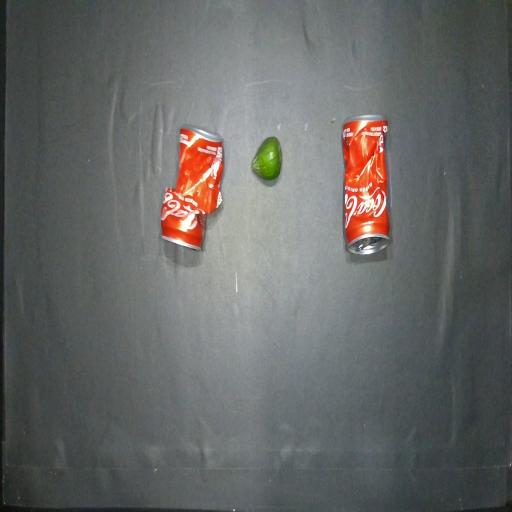lata_defectuoso: (161, 126, 223, 249), (343, 115, 389, 254), (251, 137, 282, 181)
